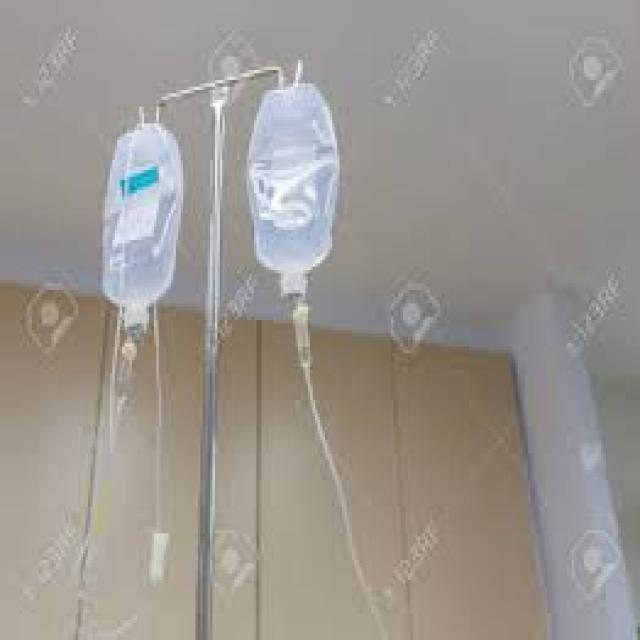B3: (240, 85, 342, 278), (97, 105, 179, 316)
